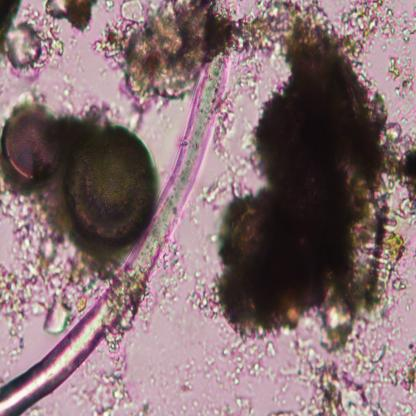Background material: (221, 3, 399, 354), (0, 183, 101, 327), (94, 0, 241, 98), (295, 336, 416, 415), (342, 1, 416, 58), (158, 258, 224, 318), (206, 344, 284, 394), (5, 17, 64, 76), (381, 123, 416, 215), (208, 138, 252, 203), (91, 365, 141, 415), (46, 0, 99, 32), (391, 50, 416, 116), (0, 1, 25, 43)
Diatom: (69, 123, 157, 248), (356, 175, 406, 309), (0, 95, 64, 185)
Microfibre: (0, 46, 230, 414)
